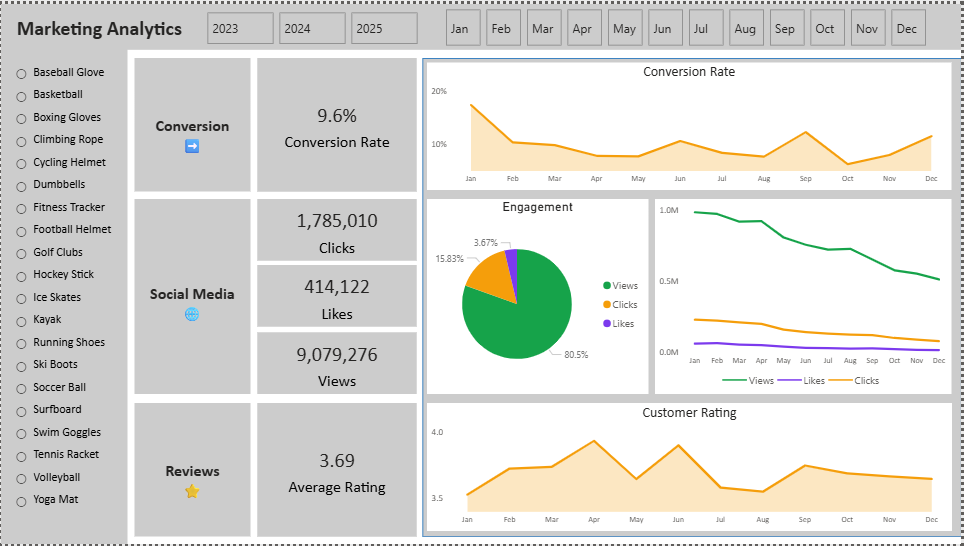

The dashboard page shown, as its layout file describes it:
{"tool":"powerbi","page":{"name":"Overview","canvas":[1280,720],"ordinal":0},"visuals":[{"type":"listSlicer","fields":{"Values":["dim_products.productname"]},"box":[0,53.3,168.9,666.7],"z":0},{"type":"shape","box":[0,0,1280,61.1],"z":1000},{"type":"textbox","box":[15.1,9.1,240.9,44.3],"z":2000},{"type":"textbox","box":[178.9,71.1,154.4,177.8],"z":3000},{"type":"textbox","box":[178.9,532.2,154.4,177.8],"z":4000},{"type":"textbox","box":[178.9,260,154.4,260],"z":5000},{"type":"card","fields":{"Values":["_Calculation.Conversion Rate"]},"box":[341.1,71.1,212.2,177.8],"z":6000},{"type":"card","fields":{"Values":["_Calculation.Rating Average"]},"box":[341.1,532.2,212.2,177.8],"z":7000},{"type":"card","fields":{"Values":["_Calculation.Clicks"]},"box":[341.1,260,212.2,82],"z":8000},{"type":"card","fields":{"Values":["_Calculation.Likes"]},"box":[341.1,348.9,212.2,82.2],"z":9000},{"type":"card","fields":{"Values":["_Calculation.Views"]},"box":[341.1,437.8,212.2,82.2],"z":10000},{"type":"shape","box":[561.1,71.1,718.9,638.9],"z":11000},{"type":"advancedSlicerVisual","fields":{"Values":["Calendar.Year"]},"box":[269.1,5,292.3,52.4],"z":12000},{"type":"advancedSlicerVisual","fields":{"Values":["Calendar.MonthNameShort"]},"box":[568.4,1,699.5,58.5],"z":13000},{"type":"lineChart","title":"Conversion Rate ","fields":{"Y":["_Calculation.Conversion Rate"],"Category":["Calendar.MonthNameShort"]},"box":[568.4,78.6,699.5,170.3],"z":14000},{"type":"pieChart","title":"Engagement","fields":{"Y":["_Calculation.Views","_Calculation.Clicks","_Calculation.Likes"]},"box":[568.4,260,295.3,260],"z":15000},{"type":"lineChart","fields":{"Category":["Calendar.MonthNameShort"],"Y":["_Calculation.Views","_Calculation.Likes","_Calculation.Clicks"]},"box":[872.8,260,395.1,260],"z":16000},{"type":"lineChart","title":"Customer Rating","fields":{"Category":["Calendar.MonthNameShort"],"Y":["_Calculation.Rating Average"]},"box":[567.7,532.1,700.1,170.8],"z":17000}]}

Visuals, with their boxes in screenshot pixels (x1, y1, x2, y2), scaled from the page's 1280x720 canvas onto the 964x546 screenshot:
listSlicer - dim_products.productname: Rect(0, 40, 127, 545)
shape: Rect(0, 0, 963, 46)
textbox: Rect(11, 7, 193, 40)
textbox: Rect(135, 54, 251, 189)
textbox: Rect(135, 404, 251, 538)
textbox: Rect(135, 197, 251, 394)
card - _Calculation.Conversion Rate: Rect(257, 54, 417, 189)
card - _Calculation.Rating Average: Rect(257, 404, 417, 538)
card - _Calculation.Clicks: Rect(257, 197, 417, 259)
card - _Calculation.Likes: Rect(257, 265, 417, 327)
card - _Calculation.Views: Rect(257, 332, 417, 394)
shape: Rect(423, 54, 963, 538)
advancedSlicerVisual - Calendar.Year: Rect(203, 4, 423, 44)
advancedSlicerVisual - Calendar.MonthNameShort: Rect(428, 1, 955, 45)
"Conversion Rate " lineChart: Rect(428, 60, 955, 189)
"Engagement" pieChart: Rect(428, 197, 650, 394)
lineChart - Calendar.MonthNameShort x _Calculation.Views: Rect(657, 197, 955, 394)
"Customer Rating" lineChart: Rect(428, 404, 955, 533)
